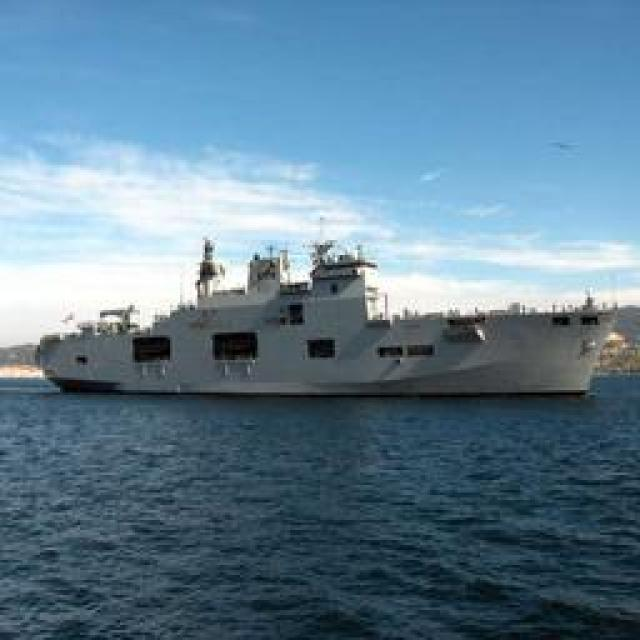ship2: (38, 242, 620, 400)
